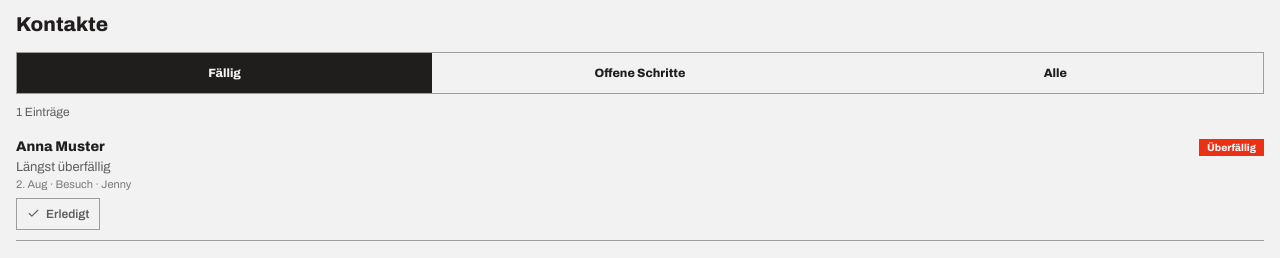
Test: KontakteTabScreen (7.6) › zeigt im Sub-Tab "Offene Schritte" nur Einträge mit naechsterSchritt
This screenshot has width=1280, height=258.
Expected: the text "Anna Muster" is shown, [16,139,105,154]
Step 1. Click the button "Offene Schritte" → [640, 73], box [432,53,848,93]
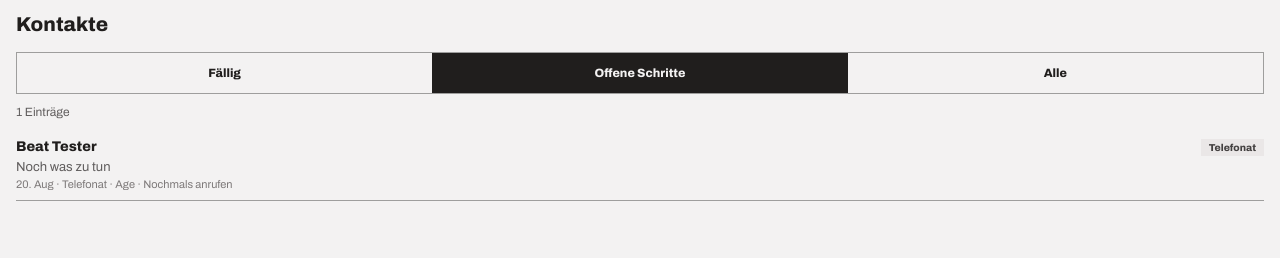
Result: the text "Beat Tester" is shown at [16,139,97,154]
Result: the button "Anna Muster" is gone
Result: the text "Nochmals anrufen" is shown at [135,178,232,190]
